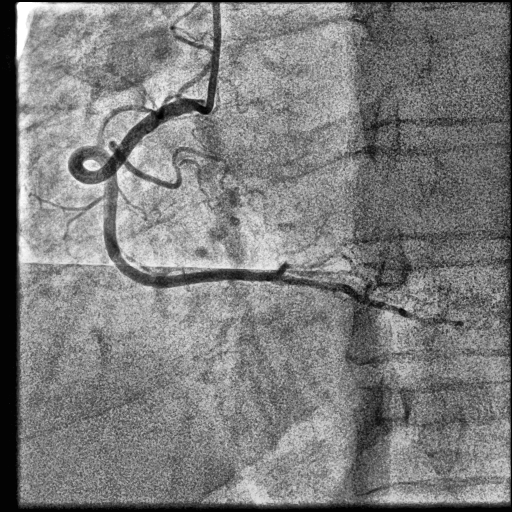pda: (279, 270, 462, 326)
rca: (69, 98, 279, 289)
